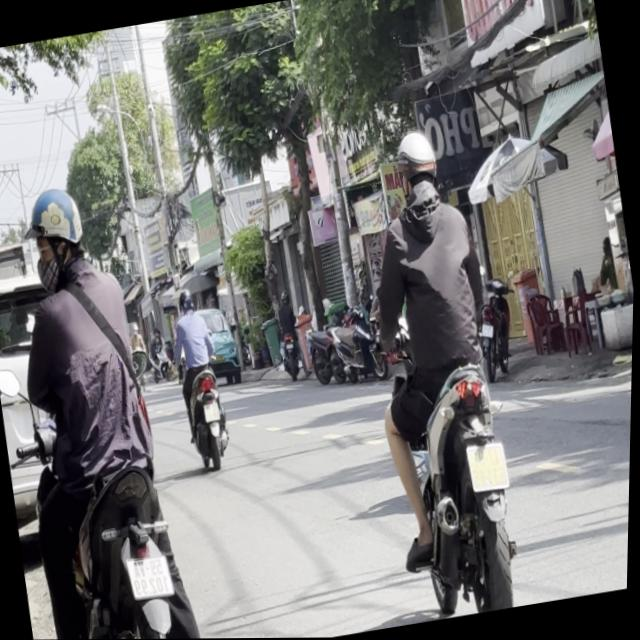helmet: (23, 181, 91, 278), (389, 124, 445, 207), (179, 286, 197, 313)
licenseplate: (332, 116, 542, 623), (0, 166, 218, 640), (164, 282, 239, 471)
nohelmet: (129, 553, 176, 599), (468, 441, 511, 490), (203, 402, 222, 422)
